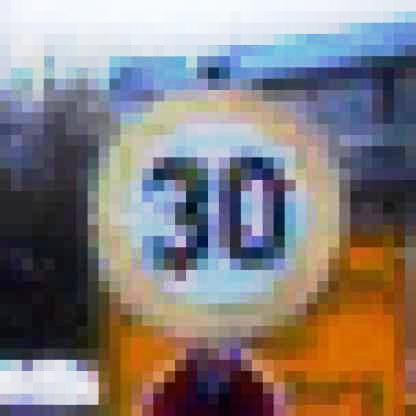Speed Limit -30-: (63, 73, 353, 356)
